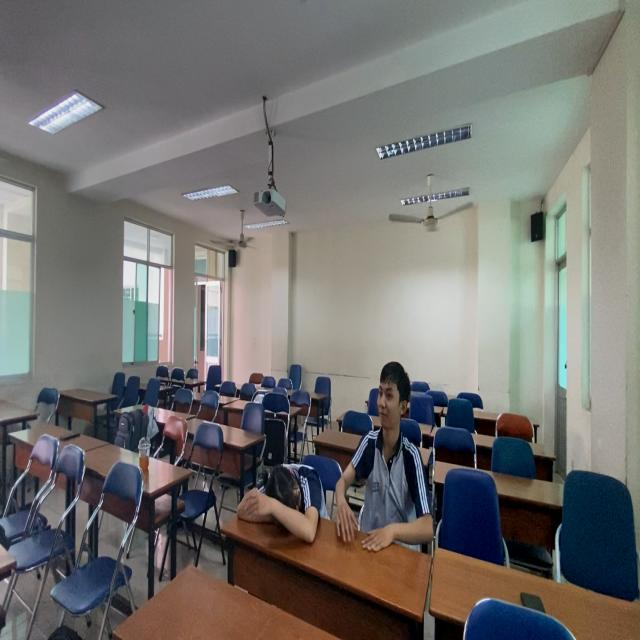sleep: (230, 441, 337, 563)
